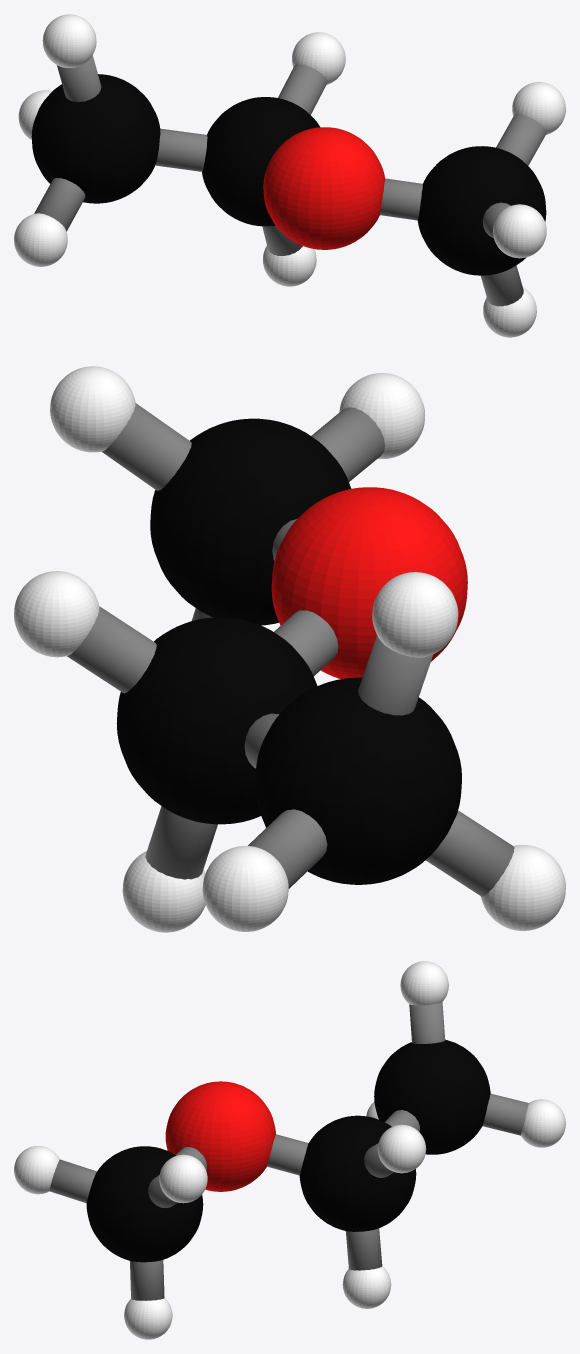
File: ETILMETILICO.obj
The picture shows the model from 3 angles, top to bottom: view 1: azimuth 30°, elevation 25°; view 2: azimuth 150°, elevation 25°; view 3: azimuth 270°, elevation 25°; orthographic projection. The views are drawn at different scales.
Parts seen in each view (by area): view 1: Carbon_ball_Sphere, Hydrogen_ball_Sphere.001, Oxygen_ball_Sphere.002, Stick_Cylinder.003_Cylinder.003, Stick_Cylinder.009_Cylinder.009, Stick_Cylinder.004_Cylinder.004, Stick_Cylinder_Cylinder, Stick_Cylinder.007_Cylinder.007, Stick_Cylinder.010_Cylinder.010, Stick_Cylinder.005_Cylinder.005, Stick_Cylinder.002_Cylinder.002, Stick_Cylinder.006_Cylinder.006; view 2: Carbon_ball_Sphere, Hydrogen_ball_Sphere.001, Oxygen_ball_Sphere.002, Stick_Cylinder.009_Cylinder.009, Stick_Cylinder.004_Cylinder.004, Stick_Cylinder_Cylinder, Stick_Cylinder.010_Cylinder.010, Stick_Cylinder.002_Cylinder.002, Stick_Cylinder.008_Cylinder.008, Stick_Cylinder.006_Cylinder.006, Stick_Cylinder.001_Cylinder.001, Stick_Cylinder.003_Cylinder.003; view 3: Carbon_ball_Sphere, Hydrogen_ball_Sphere.001, Oxygen_ball_Sphere.002, Stick_Cylinder.008_Cylinder.008, Stick_Cylinder.006_Cylinder.006, Stick_Cylinder.002_Cylinder.002, Stick_Cylinder.005_Cylinder.005, Stick_Cylinder.010_Cylinder.010, Stick_Cylinder.001_Cylinder.001, Stick_Cylinder_Cylinder.
Boxes of the visible parts, box(x1,y1,x2,y2) form: Carbon_ball_Sphere: box(31, 74, 546, 275); Hydrogen_ball_Sphere.001: box(14, 14, 565, 337); Oxygen_ball_Sphere.002: box(263, 127, 384, 249); Stick_Cylinder.003_Cylinder.003: box(155, 128, 207, 171); Stick_Cylinder.009_Cylinder.009: box(34, 178, 85, 231); Stick_Cylinder.004_Cylinder.004: box(496, 114, 546, 165); Stick_Cylinder_Cylinder: box(278, 64, 327, 114); Stick_Cylinder.007_Cylinder.007: box(380, 178, 422, 220); Stick_Cylinder.010_Cylinder.010: box(57, 55, 101, 102); Stick_Cylinder.005_Cylinder.005: box(481, 265, 523, 306); Stick_Cylinder.002_Cylinder.002: box(262, 225, 302, 255); Stick_Cylinder.006_Cylinder.006: box(482, 202, 510, 238); Carbon_ball_Sphere: box(116, 418, 461, 884); Hydrogen_ball_Sphere.001: box(14, 366, 565, 932); Oxygen_ball_Sphere.002: box(271, 487, 467, 678); Stick_Cylinder.009_Cylinder.009: box(425, 810, 514, 896); Stick_Cylinder.004_Cylinder.004: box(102, 403, 191, 490); Stick_Cylinder_Cylinder: box(67, 606, 156, 693); Stick_Cylinder.010_Cylinder.010: box(358, 635, 433, 715); Stick_Cylinder.002_Cylinder.002: box(145, 806, 217, 879); Stick_Cylinder.008_Cylinder.008: box(248, 809, 327, 888); Stick_Cylinder.006_Cylinder.006: box(311, 407, 384, 481); Stick_Cylinder.001_Cylinder.001: box(274, 610, 338, 675); Stick_Cylinder.003_Cylinder.003: box(244, 713, 278, 768); Carbon_ball_Sphere: box(86, 1039, 490, 1262); Hydrogen_ball_Sphere.001: box(14, 961, 565, 1339); Oxygen_ball_Sphere.002: box(165, 1081, 275, 1191); Stick_Cylinder.008_Cylinder.008: box(482, 1093, 528, 1135); Stick_Cylinder.006_Cylinder.006: box(49, 1159, 96, 1203); Stick_Cylinder.002_Cylinder.002: box(345, 1228, 382, 1270); Stick_Cylinder.005_Cylinder.005: box(130, 1260, 164, 1300); Stick_Cylinder.010_Cylinder.010: box(409, 1002, 445, 1043); Stick_Cylinder.001_Cylinder.001: box(267, 1134, 308, 1175); Stick_Cylinder_Cylinder: box(364, 1143, 394, 1177).
Size of the model in its own units: 5.31 by 3.42 by 6.56.
